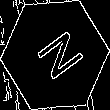N_SW: (26, 24, 84, 86)
